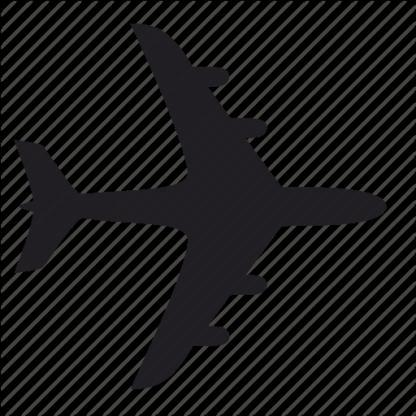CIV_Plane: (5, 18, 396, 405)
